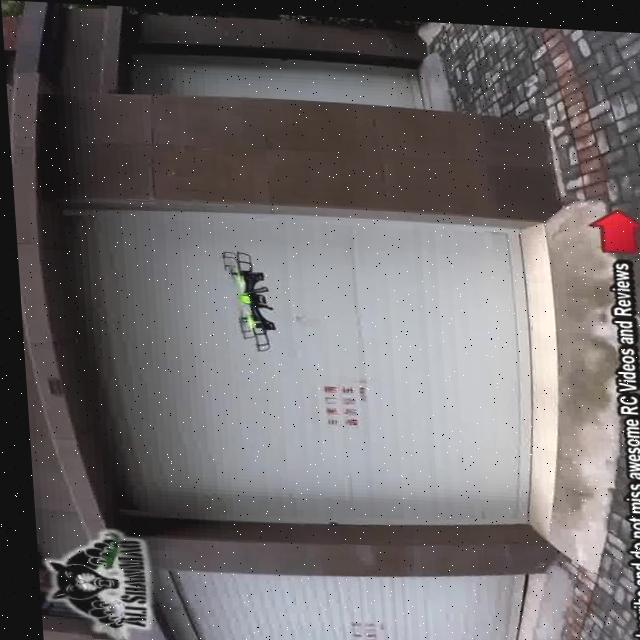drone: (199, 246, 287, 349)
